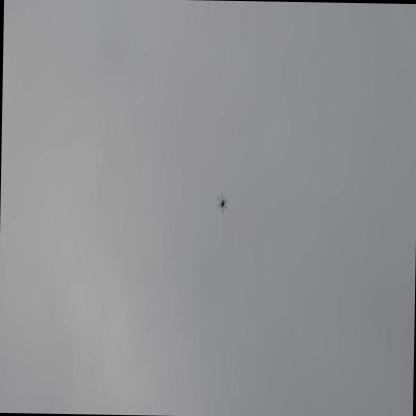drone: (215, 190, 230, 217)
